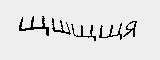Ш: (50, 19, 71, 38)
Щ: (19, 12, 48, 37), (100, 23, 123, 40), (73, 23, 95, 40)
Я: (124, 17, 137, 41)
